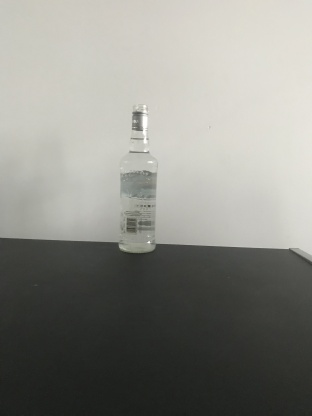nakretka: (129, 102, 150, 133)
